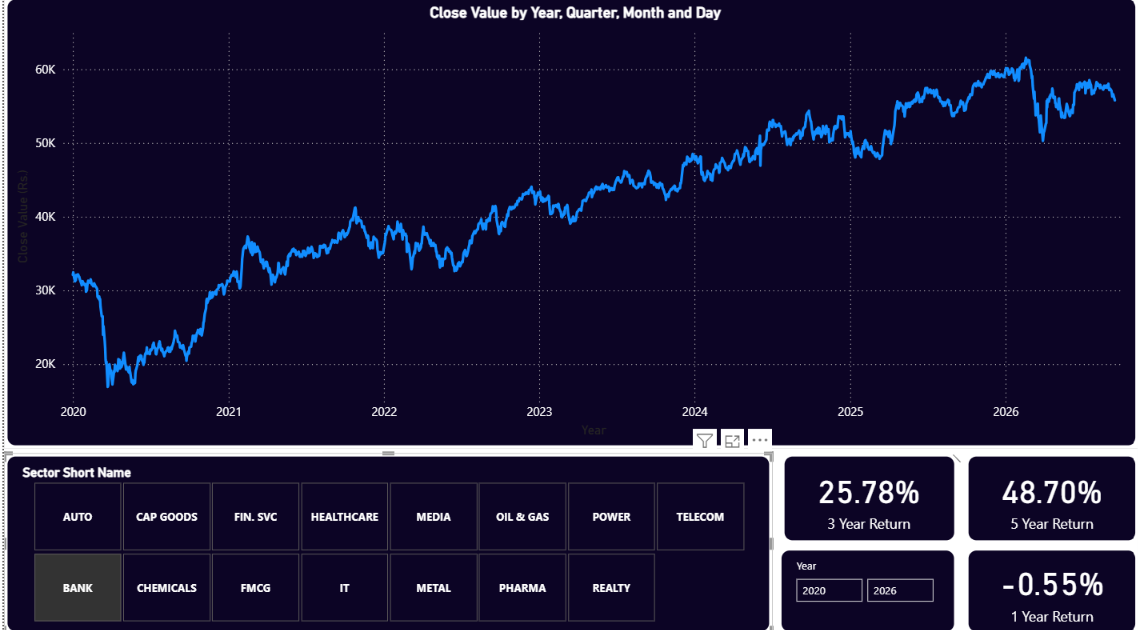

What the dashboard file says about the page in this screenshot:
{"tool":"powerbi","page":{"name":"Page 2","canvas":[1280,720],"ordinal":1},"visuals":[{"type":"lineChart","title":" Close Value by Year, Quarter, Month and Day","fields":{"Category":["Date Table.Date.Variation.Date Hierarchy.Year","Date Table.Date.Variation.Date Hierarchy.Quarter","Date Table.Date.Variation.Date Hierarchy.Month","Date Table.Date.Variation.Date Hierarchy.Day"],"Y":["Max(Combine Data.Close)"]},"box":[0,0,1280.2,510.5],"z":0},{"type":"slicer","fields":{"Values":["Combine Data.Sector Short Name"]},"box":[0,515.1,866.3,204.7],"z":1000},{"type":"slicer","fields":{"Values":["Date Table.Year"]},"box":[872.1,620.9,202.3,98.8],"z":1001},{"type":"card","fields":{"Values":["Combine Data.3 Year Return"]},"box":[875.6,514.5,198.8,102.3],"z":1002},{"type":"card","fields":{"Values":["Combine Data.5 Year Return"]},"box":[1083.7,514.5,196.5,102.3],"z":1003},{"type":"card","fields":{"Values":["Combine Data.1 Year Return"]},"box":[1083.7,620.9,196.5,98.8],"z":1004}]}

Visuals, with their boxes in screenshot pixels (x1, y1, x2, y2), scaled from the page's 1280x720 canvas onto the 1138x630 screenshot:
" Close Value by Year, Quarter, Month and Day" lineChart: 0:0:1137:447
slicer - Combine Data.Sector Short Name: 0:451:770:629
slicer - Date Table.Year: 775:543:955:629
card - Combine Data.3 Year Return: 778:450:955:540
card - Combine Data.5 Year Return: 963:450:1137:540
card - Combine Data.1 Year Return: 963:543:1137:629
